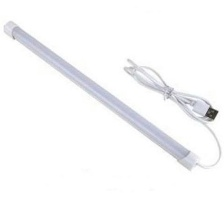light_bulb: (0, 16, 204, 173)
